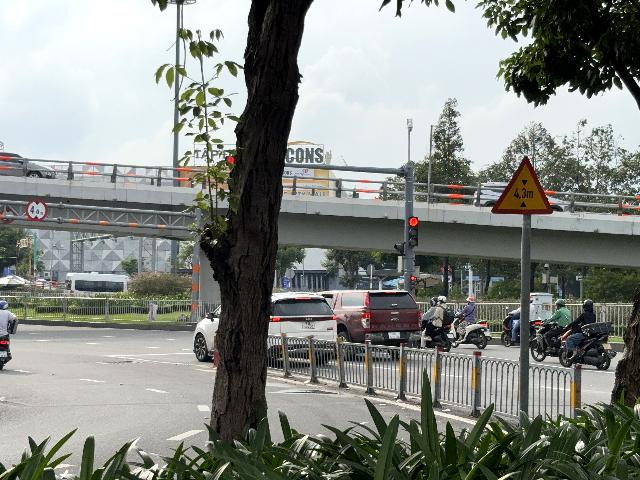chieu-cao-tinh-khong-thuc-te: (491, 156, 552, 215)
